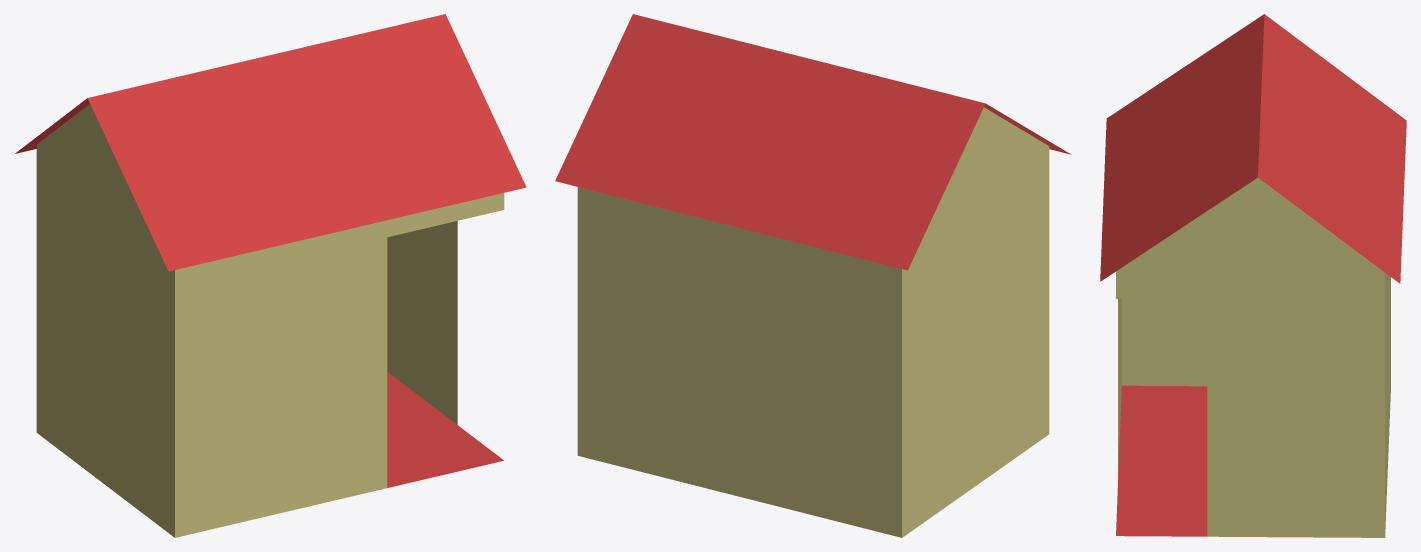
3 renders of one model, left to right at view 1: azimuth 30°, elevation 25°; view 2: azimuth 150°, elevation 25°; view 3: azimuth 270°, elevation 25°, orthographic. The views are drawn at different scales.
Size of the model in its own units: 12.65 by 9.9 by 13.04.
